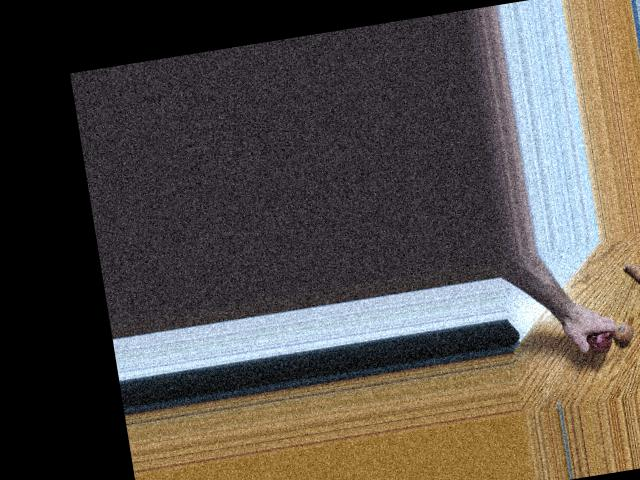onion: (609, 319, 636, 345)
